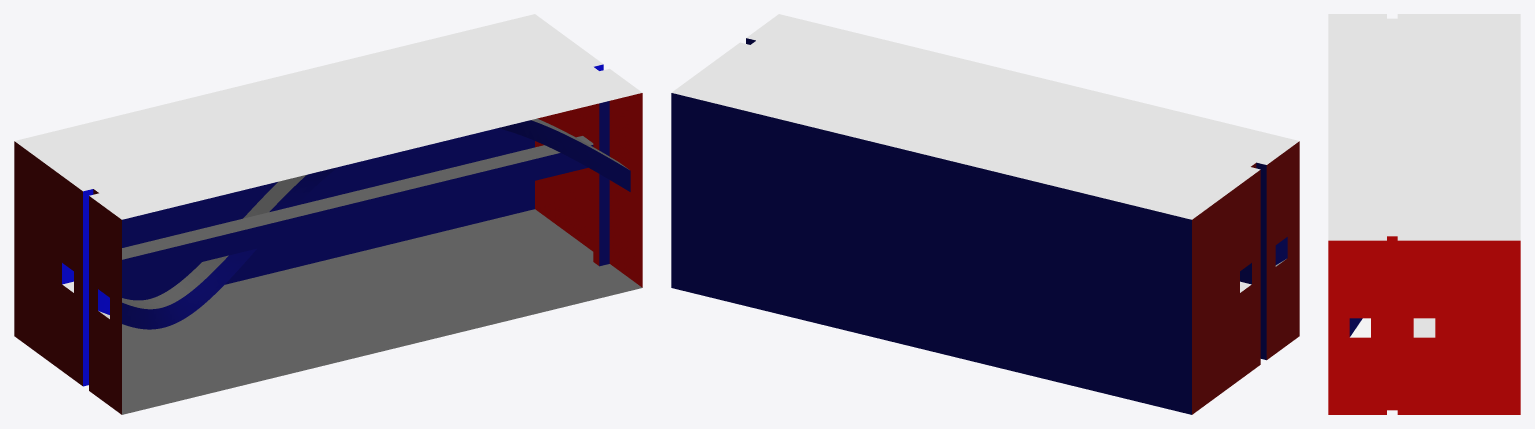
File: labeled_CAD.glb
3 renders of one model, left to right at view 1: azimuth 30°, elevation 25°; view 2: azimuth 150°, elevation 25°; view 3: azimuth 270°, elevation 25°, orthographic. The views are drawn at different scales.
Size of the model in its own units: 25.13 by 9 by 9.
1 material, 1 textured.
